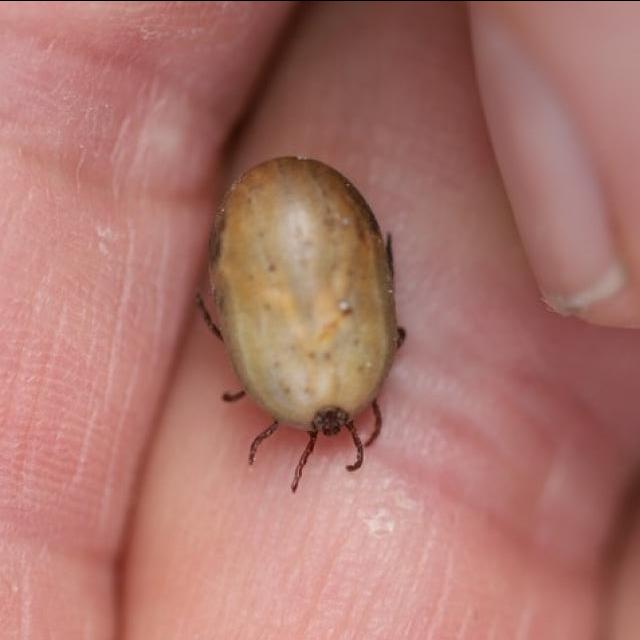Dermacentor Reticulatus-F-Fed: (195, 156, 407, 491)
